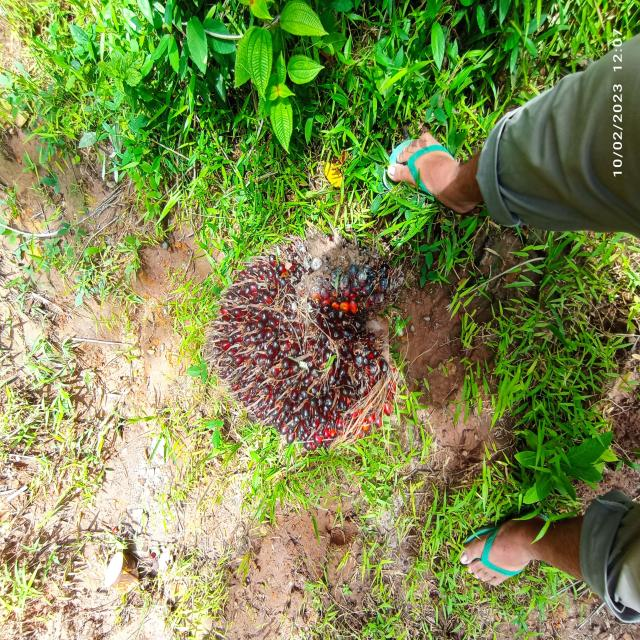fraksi 1: (192, 225, 432, 473)
